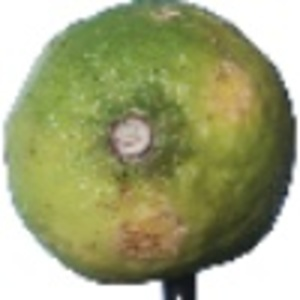limão: (2, 1, 298, 300)
